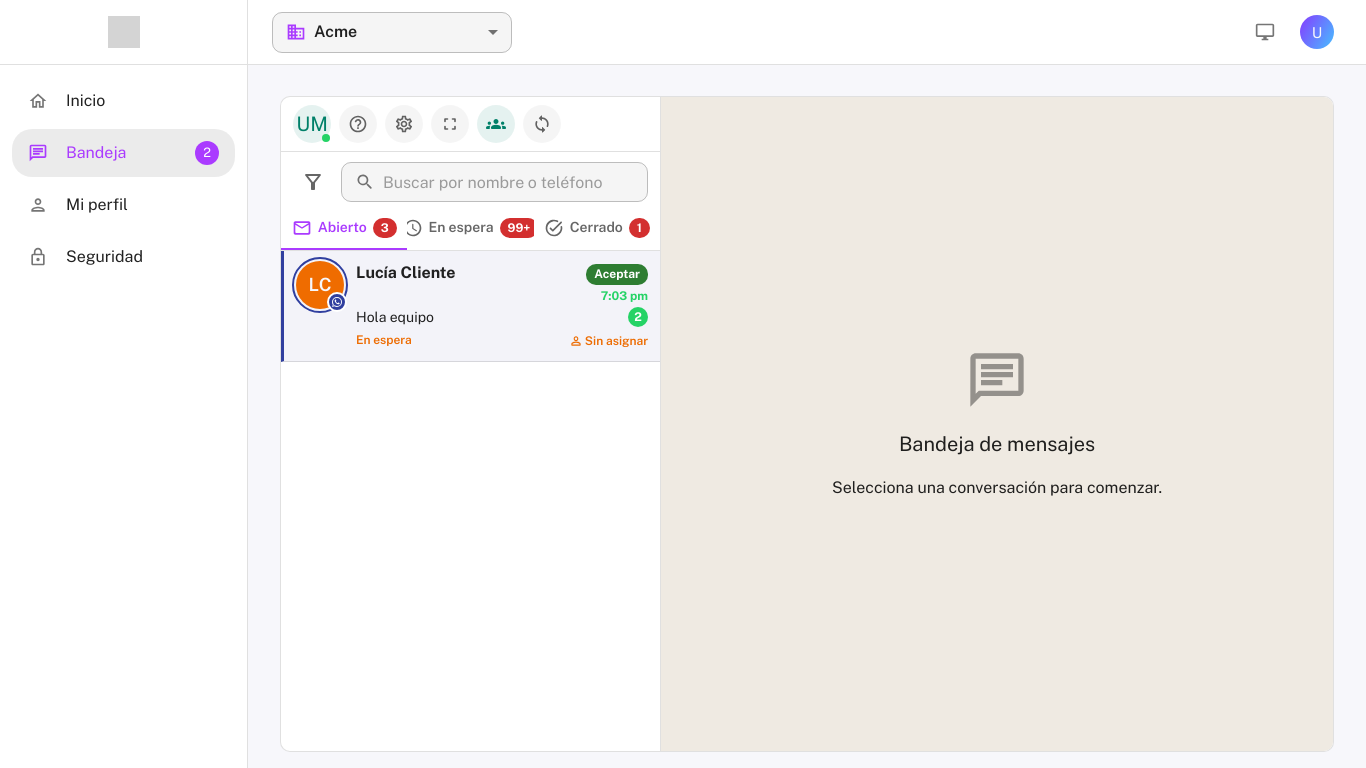
it: Inbox › «Aceptar» takes a chat on hold and opens it
Click the tab "En espera 99+": (470, 228) [407,206,534,250]
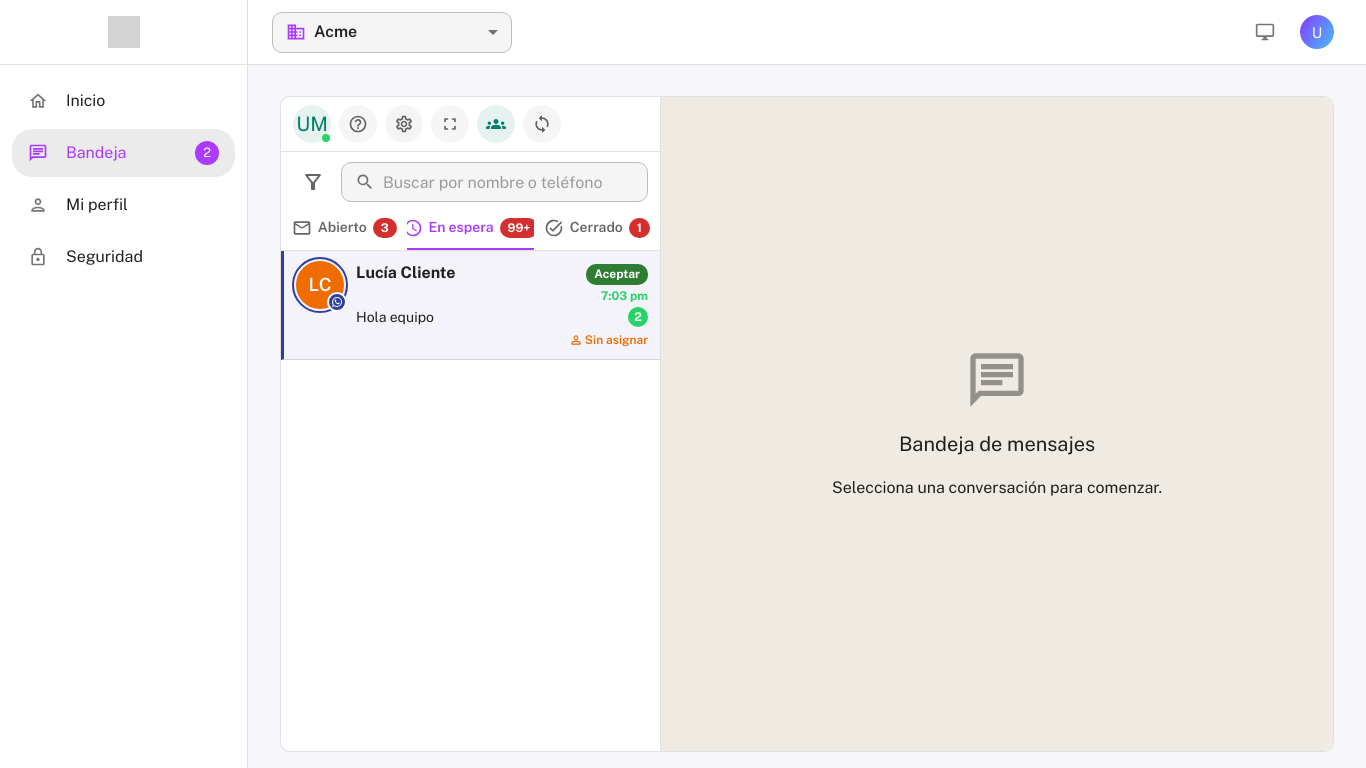
Click the button with aria-label "Aceptar el chat con Lucía Cliente": (617, 274) [586,264,648,285]
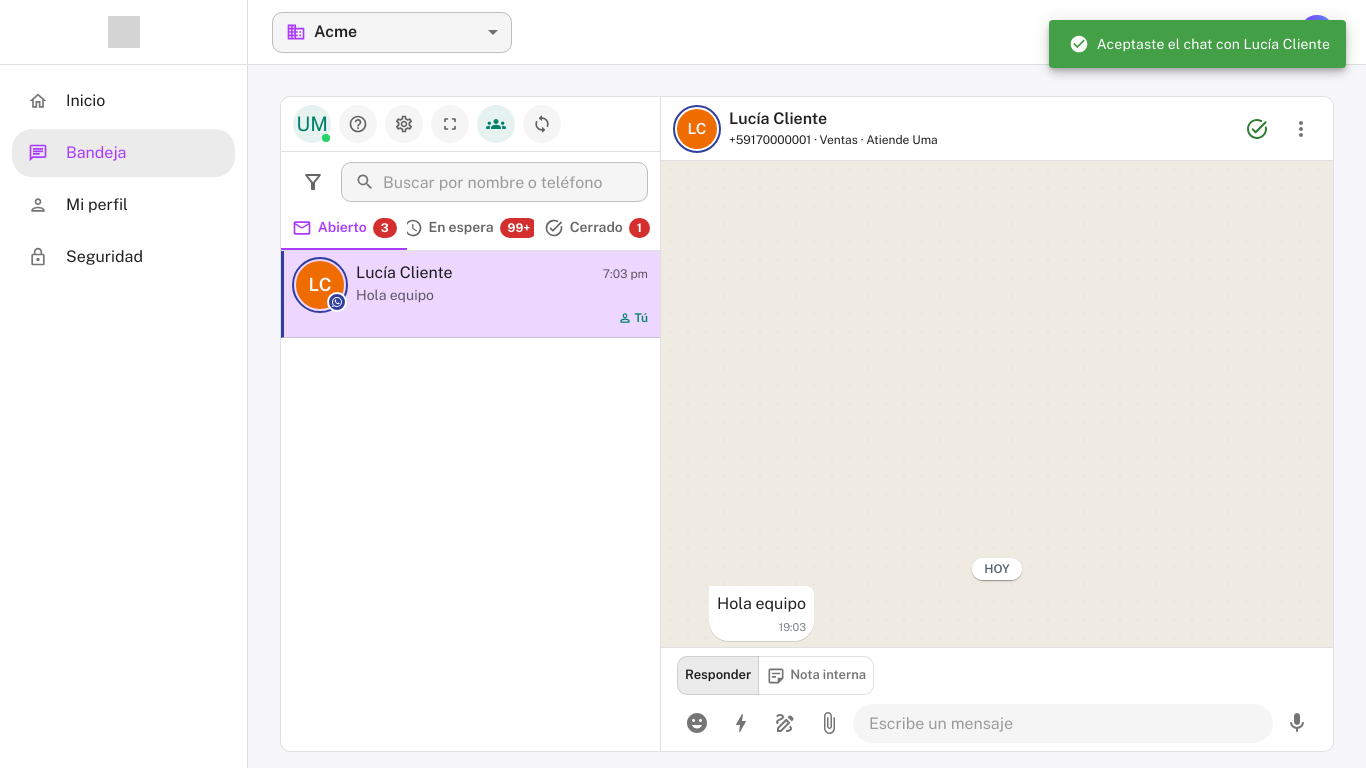
Result: the text "Aceptaste el chat con Lucía Cliente" is shown at [1069,34,1330,54]
